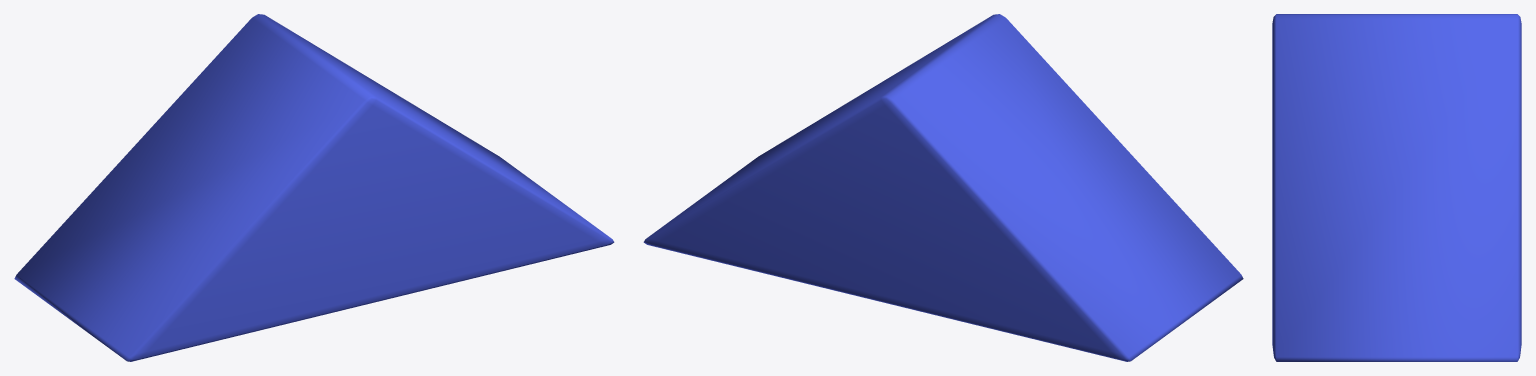
Rendered from archStackTop.glb.
The picture shows the model from 3 angles, left to right: view 1: azimuth 30°, elevation 25°; view 2: azimuth 150°, elevation 25°; view 3: azimuth 270°, elevation 25°; orthographic projection. The views are drawn at different scales.
Visible parts, largest first — view 1: archStackTop; view 2: archStackTop; view 3: archStackTop.
Boxes of the visible parts, left/top/right/bottom form: archStackTop: left=14, top=14, right=614, bottom=361; archStackTop: left=643, top=14, right=1243, bottom=361; archStackTop: left=1272, top=14, right=1521, bottom=361.
Size of the model in its own units: 1.21 by 0.4905 by 0.5.
